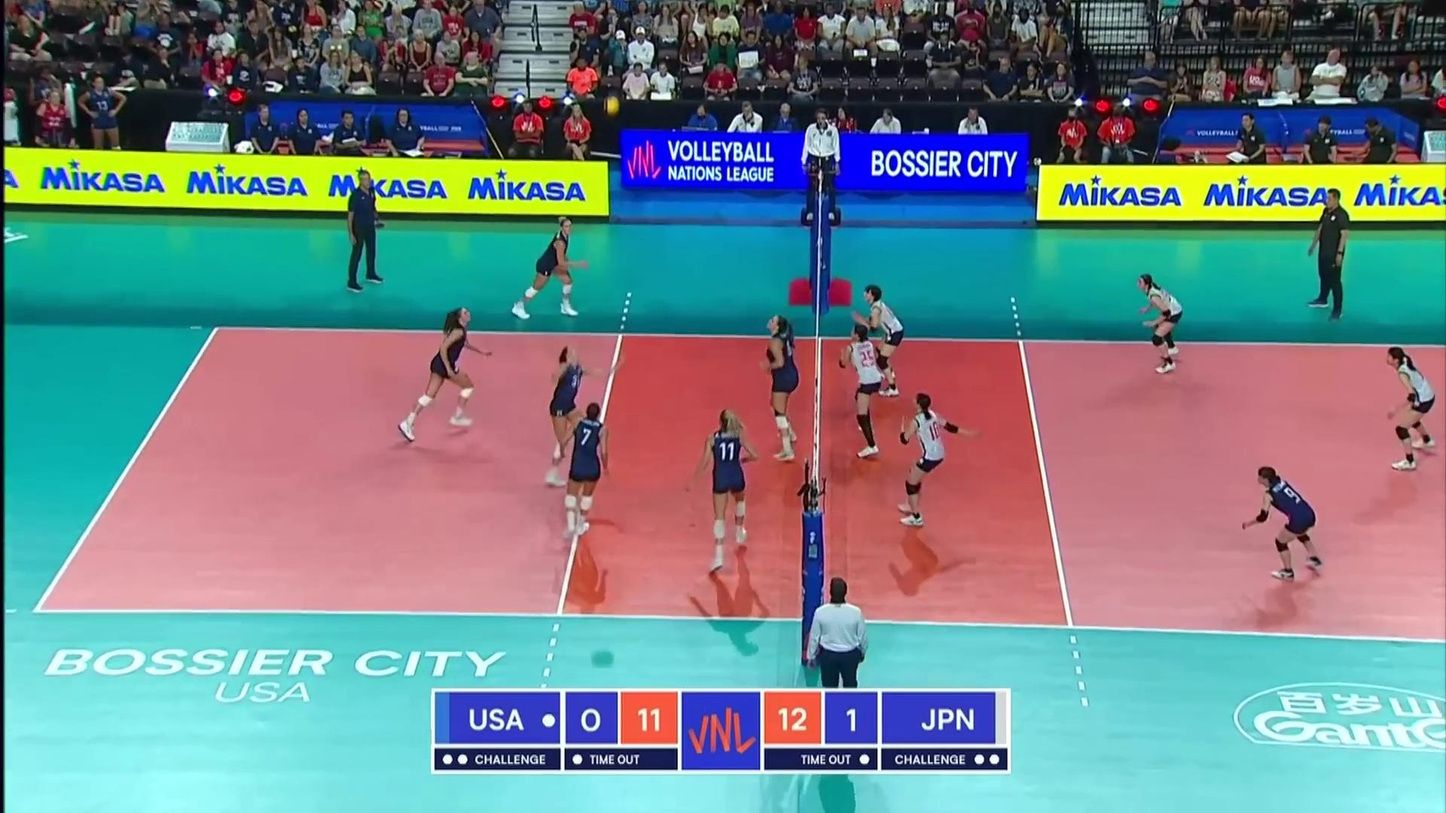player: (402, 308, 493, 447), (887, 395, 974, 528), (691, 407, 764, 554), (1243, 468, 1326, 579), (750, 314, 808, 467), (511, 212, 581, 316), (1385, 351, 1445, 471), (557, 404, 610, 532), (840, 321, 888, 461), (550, 348, 595, 493), (862, 285, 909, 399), (1133, 273, 1185, 374)
refree: (803, 581, 870, 688), (803, 109, 838, 220)
